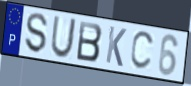6: (157, 33, 181, 77)
B: (75, 20, 103, 64)
C: (129, 30, 156, 72)
K: (104, 24, 128, 69)
S: (24, 12, 49, 56)
U: (49, 15, 78, 60)
